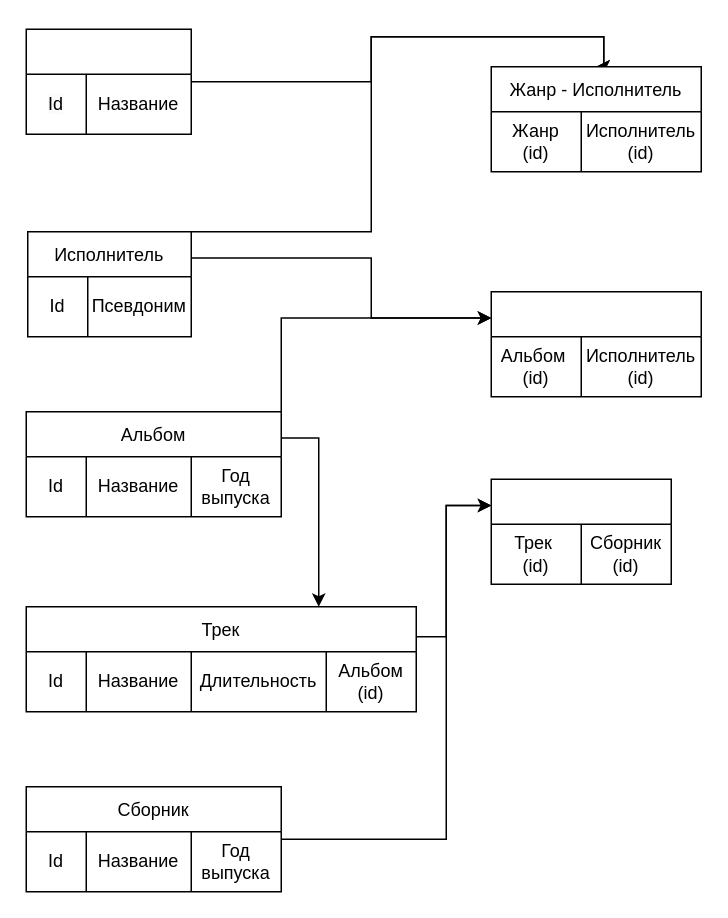
Some shapes in this 728 by 918 pixel diagram are drawn without their labels. The box of each missing label's shape, as (x1, y1, x2, y2) in pixels:
Жанр: (25, 28, 191, 134)
Исполнитель - Альбом: (490, 290, 701, 397)
Состав сборника: (490, 478, 671, 584)
